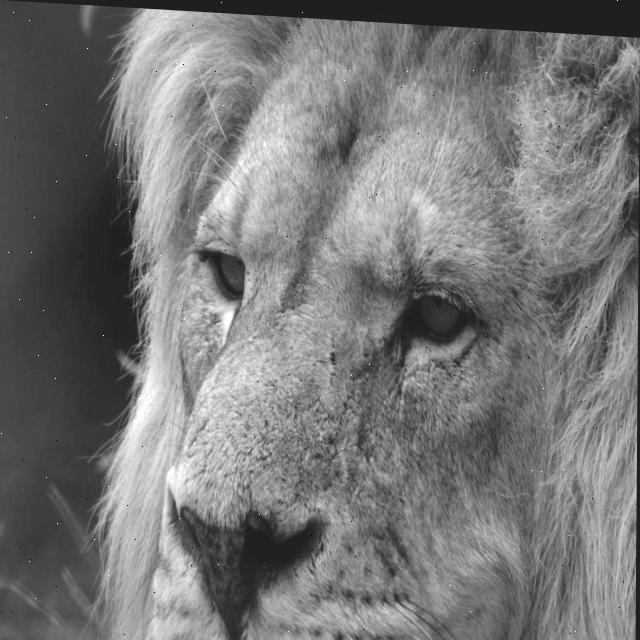Lion: (49, 18, 581, 640)
